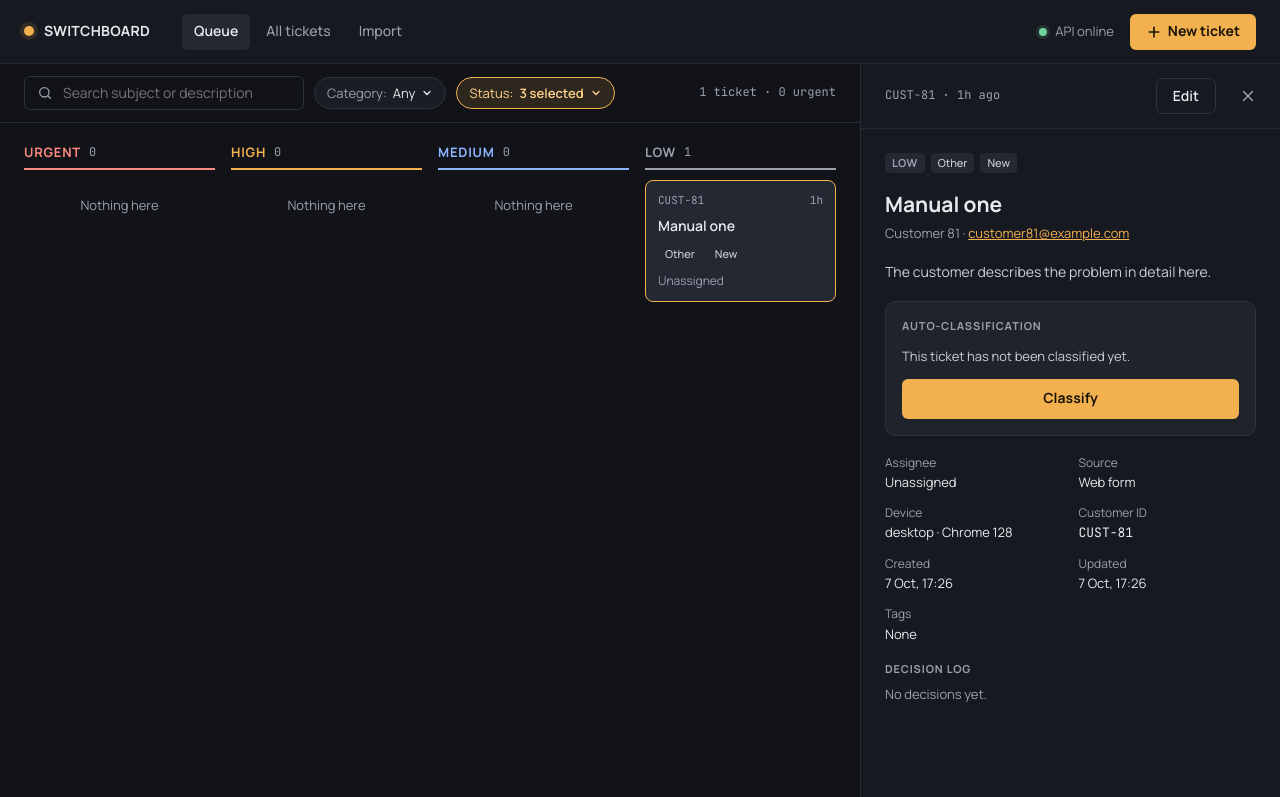
Test: Ticket panel › keeps a manual choice and applies the suggestion only when asked
The width and height of the screenshot is (1280, 797).
Click the button "Classify": coordinates (1070, 398) [902,378,1239,418]
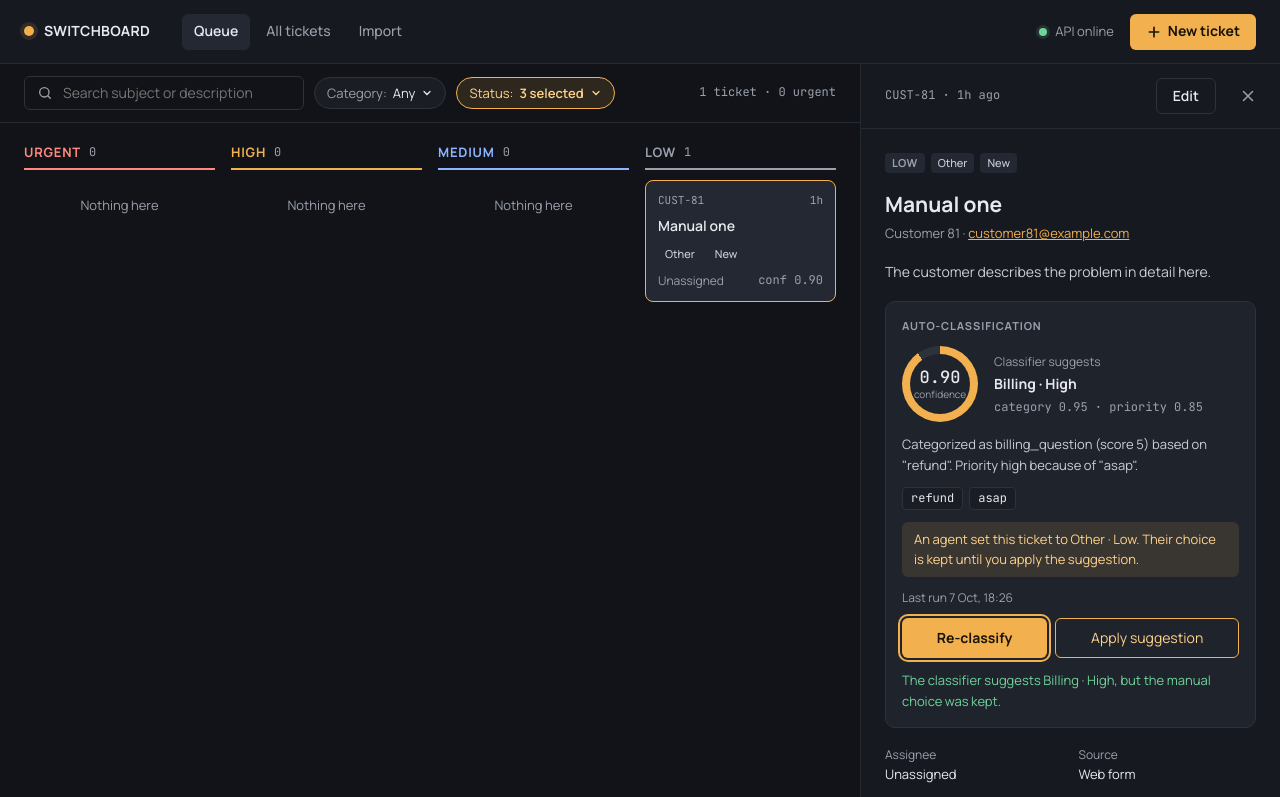
Check: the text "The classifier suggests Billing · High, but the manual choice was kept." is shown, box [902,672,1211,710]
Check: the text "An agent set this ticket to Other · Low" is shown, box [902,522,1239,577]
Click the button "Apply suggestion": coordinates (1147, 638) [1055,618,1239,658]
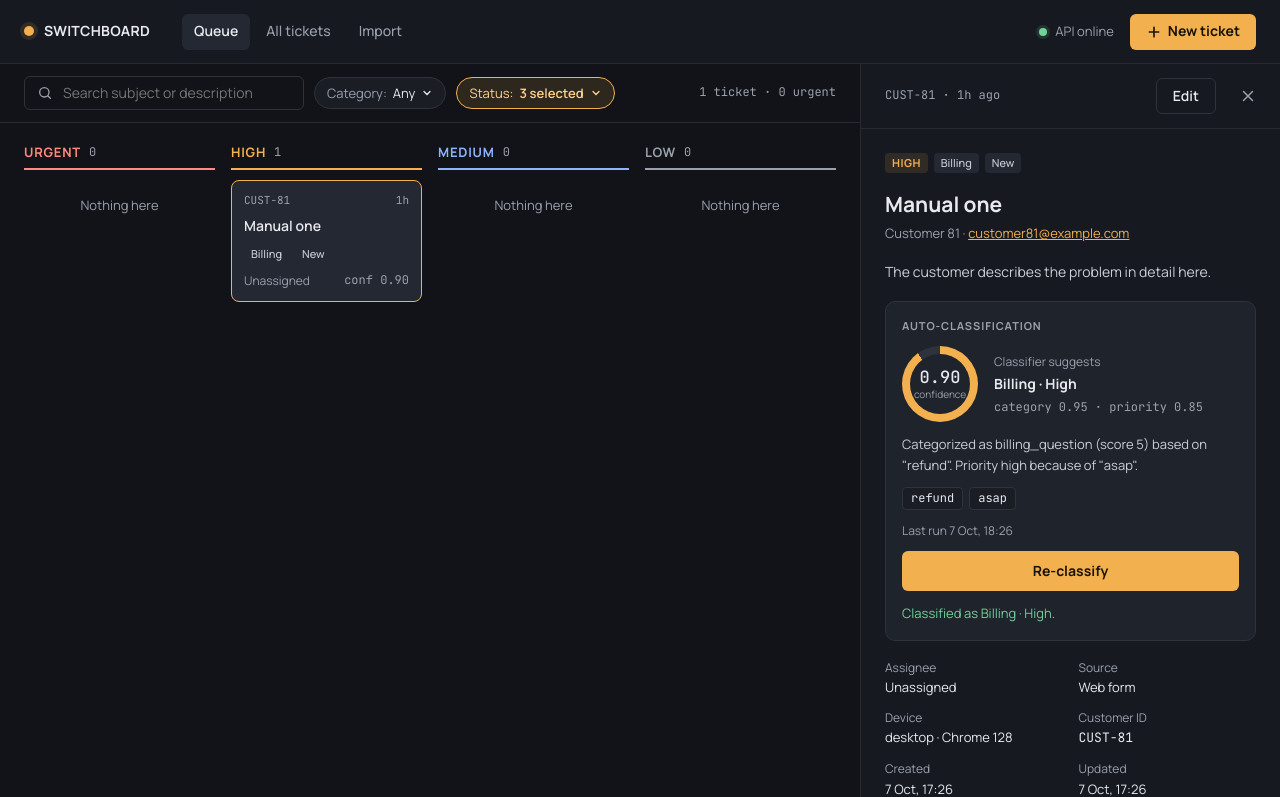
Check: the text "Classified as Billing · High." is shown, box [902,604,1055,622]
Check: the button "Apply suggestion" is gone
